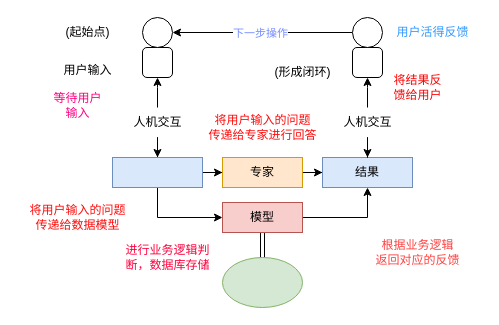
The diagram is 499 pixels wide and 325 high, and some of its shapes have lost their labels. Here are the shapes that lost their labels. From the top down, the box of each, then its label:
(112, 156, 202, 188): 控制器
(222, 256, 302, 308): 数据库
